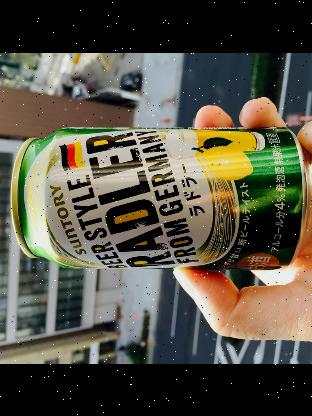Can: (0, 115, 312, 275)
